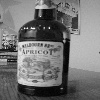beer: (18, 1, 73, 100)
